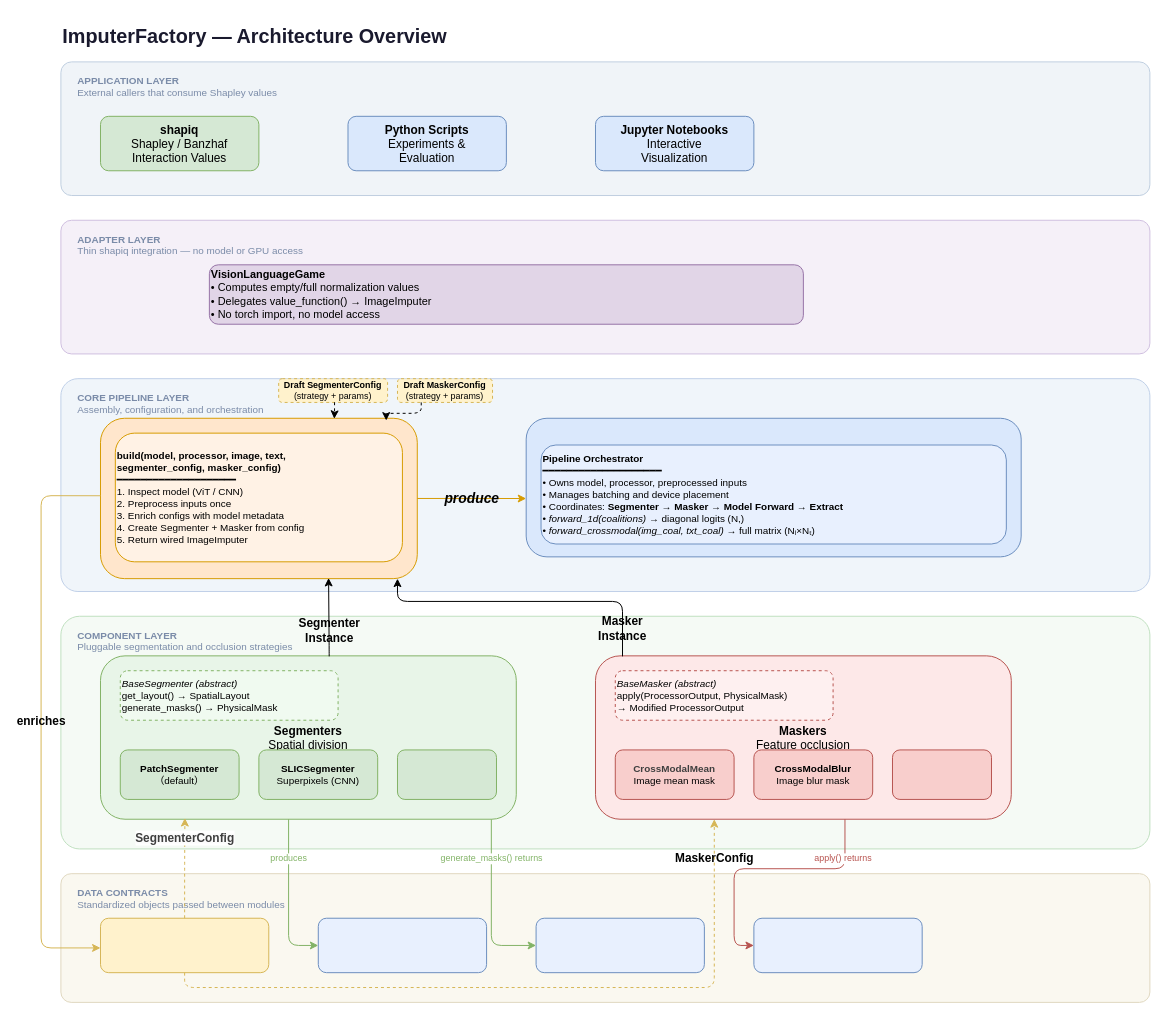
This 1167x1020 diagram has some shape labels left out. The centre of each missing label's shape, as x and y in pixels:
"Attention Image Attention mask" goes at point (941, 774).
"GradientGuided Saliency-based" goes at point (446, 774).
"PhysicalMask Image + text binary masks" goes at point (619, 945).
"ProcessorOutput Standardized model inputs" goes at point (837, 945).
"SegmenterConfig + MaskerConfig Typed read‑only configs" goes at point (184, 945).
"SpatialLayout Player→pixel mapping" goes at point (402, 945).
